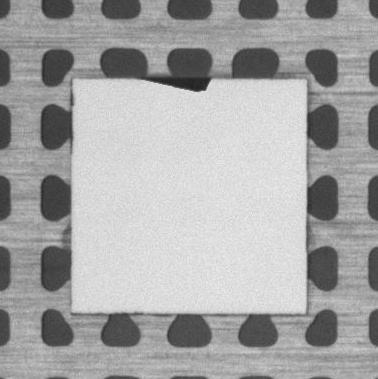DIE_BROKEN: (142, 71, 214, 94)
